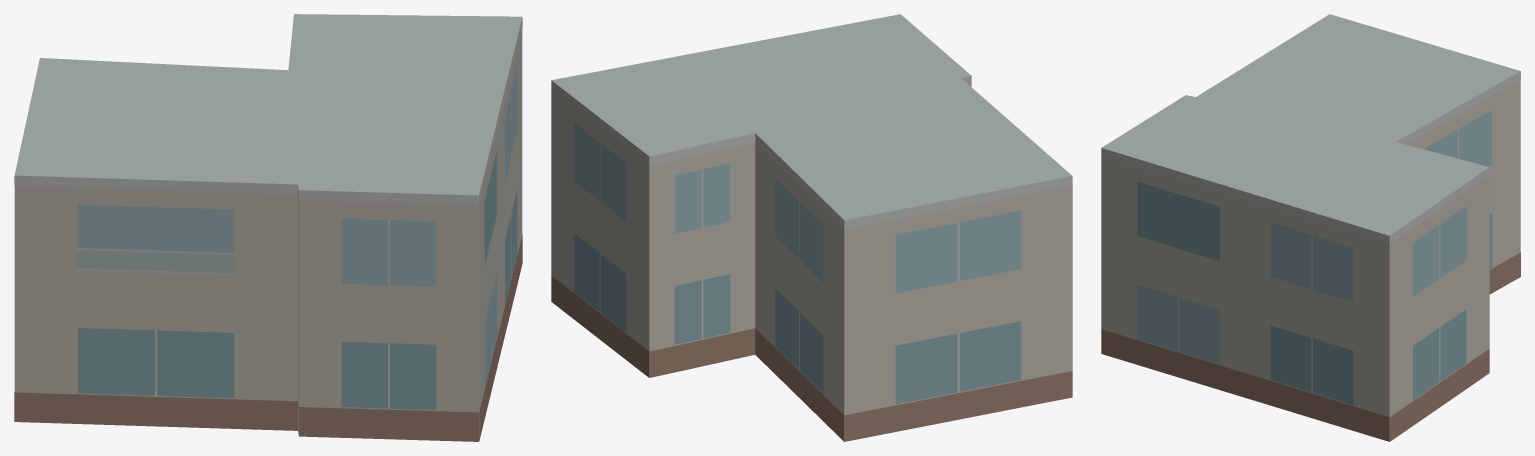
The model's file is survey-upis-32641267.glb.
3 views of the same model, side by side, from view 1: azimuth 30°, elevation 25°; view 2: azimuth 150°, elevation 25°; view 3: azimuth 270°, elevation 25° (orthographic). The views are drawn at different scales.
Visible parts, largest first — view 1: survey-upis-32641267.tmp; view 2: survey-upis-32641267.tmp; view 3: survey-upis-32641267.tmp.
Part boxes in pixels (<box>): survey-upis-32641267.tmp: <box>14,14,522,441</box>; survey-upis-32641267.tmp: <box>551,14,1072,441</box>; survey-upis-32641267.tmp: <box>1101,14,1520,441</box>.
Size of the model in its own units: 14.1 by 6.1 by 11.27.
